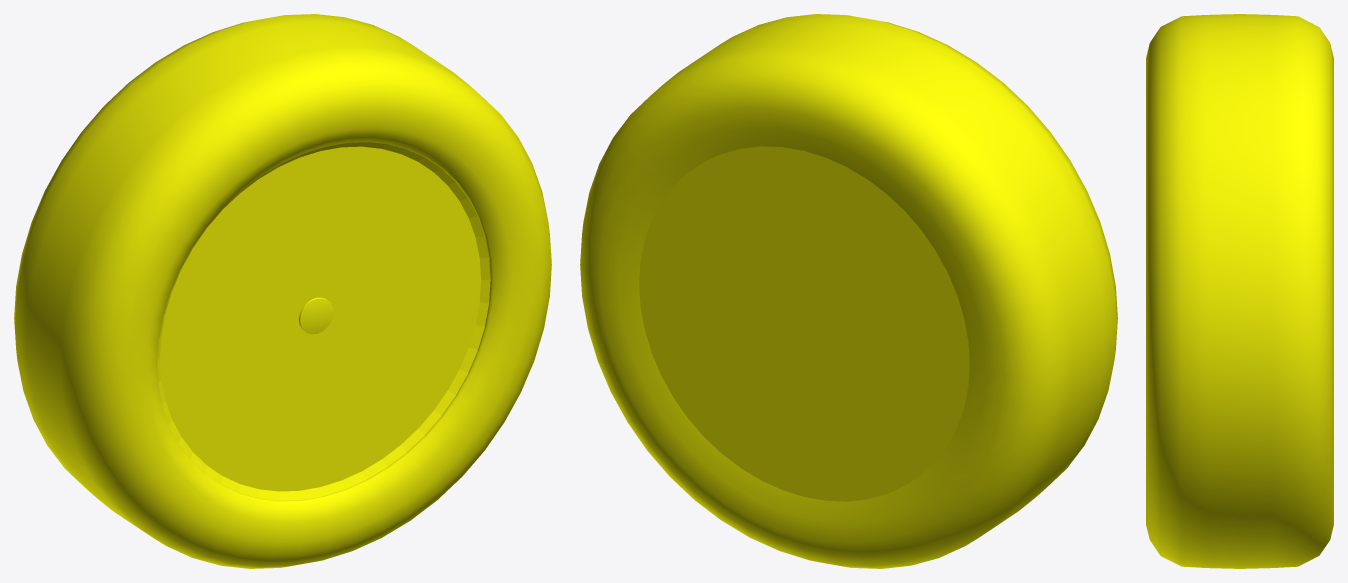
The model's file is LunTai.glb.
The picture shows the model from 3 angles, left to right: view 1: azimuth 30°, elevation 25°; view 2: azimuth 150°, elevation 25°; view 3: azimuth 270°, elevation 25°; orthographic projection.
Visible parts, largest first — view 1: 对象049; view 2: 对象049; view 3: 对象049.
Part boxes in pixels (x1,y1,x2,y2): 对象049: (14, 14, 551, 568); 对象049: (580, 14, 1117, 568); 对象049: (1146, 14, 1333, 568).
Size of the model in its own units: 0.7479 by 0.7479 by 0.253.
1 material, 1 textured.
